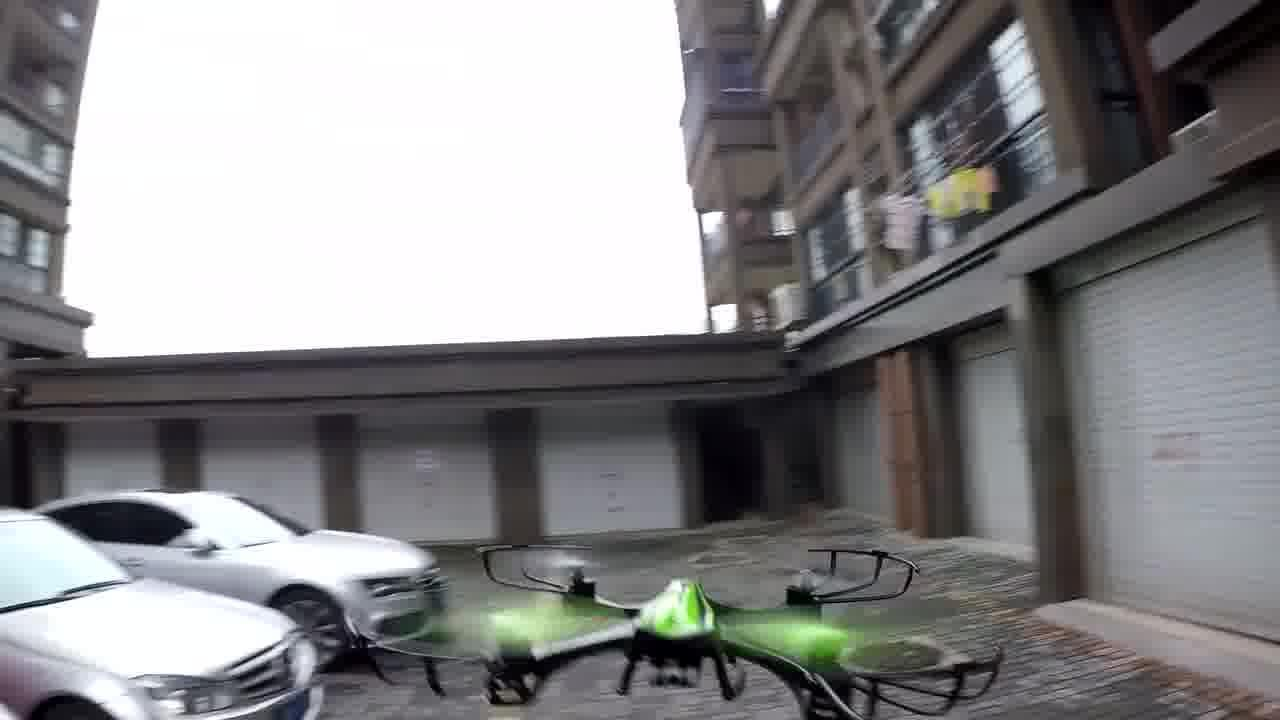drone: (351, 527, 1019, 719)
